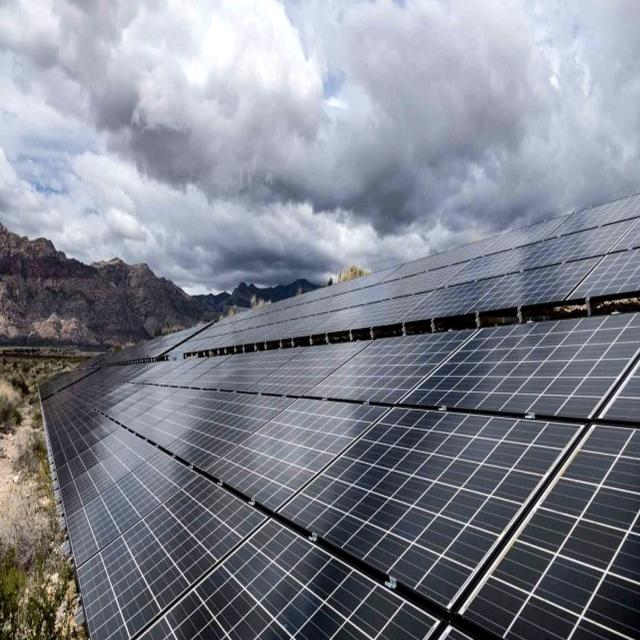clean-solar-panel: (41, 195, 640, 638)
